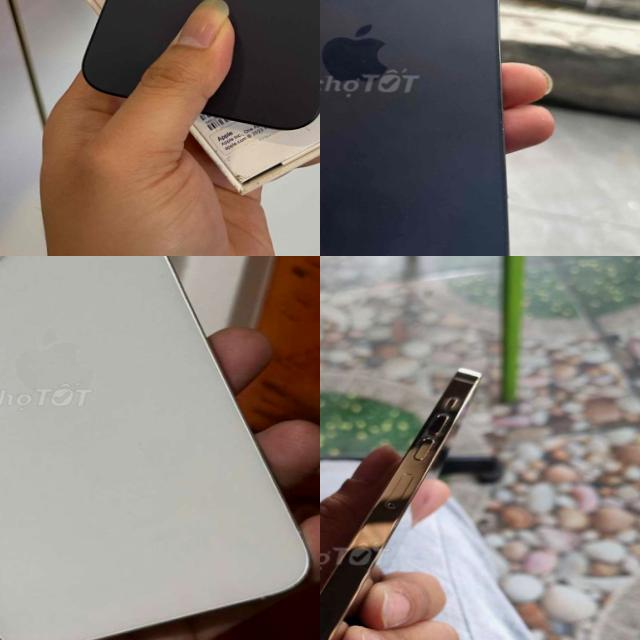gen_12_13: (320, 358, 494, 640)
gen_14: (320, 0, 520, 256)
gen_15: (0, 256, 320, 640), (63, 0, 320, 135)
